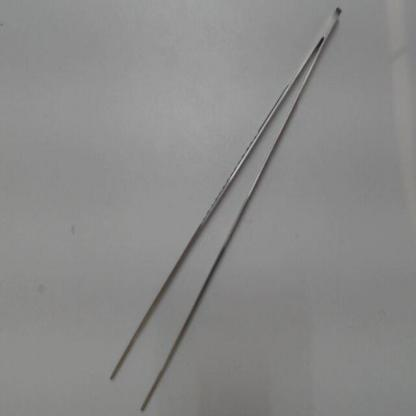DeBakey Dissector: (101, 8, 351, 409)
